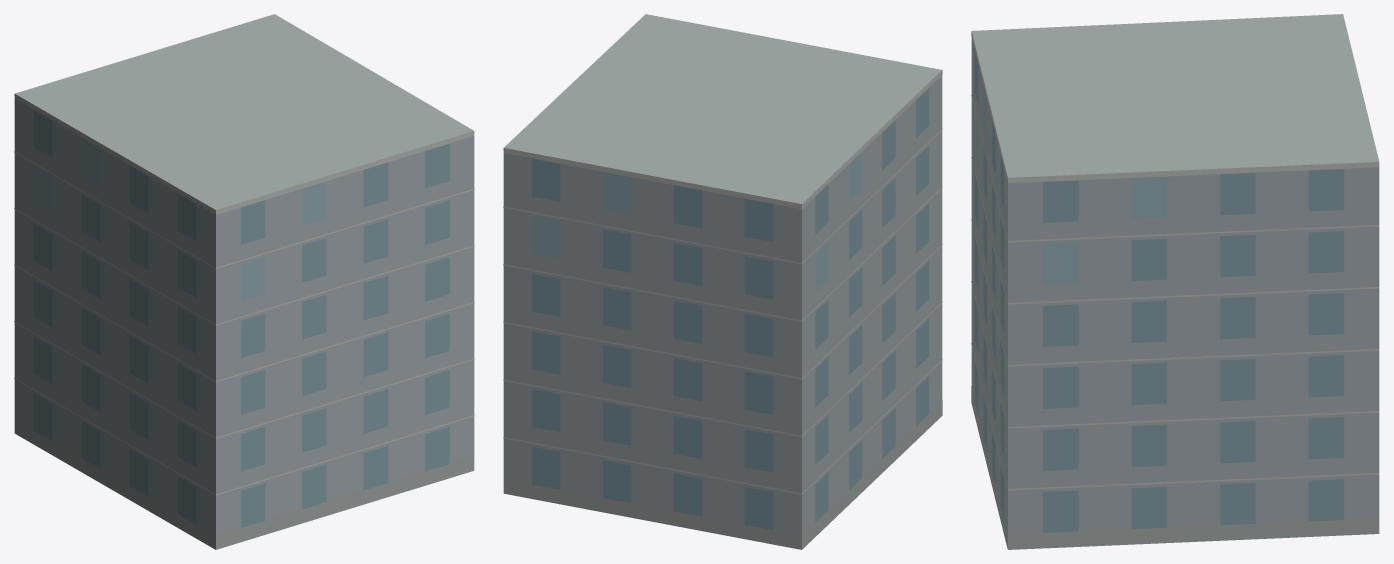
File: survey-upis-32960057.glb
3 renders of one model, left to right at view 1: azimuth 30°, elevation 25°; view 2: azimuth 150°, elevation 25°; view 3: azimuth 270°, elevation 25°, orthographic. The views are drawn at different scales.
Parts seen in each view (by area): view 1: survey-upis-32960057.tmp; view 2: survey-upis-32960057.tmp; view 3: survey-upis-32960057.tmp.
Part boxes in pixels (<box>): survey-upis-32960057.tmp: <box>14,14,474,549</box>; survey-upis-32960057.tmp: <box>503,14,942,549</box>; survey-upis-32960057.tmp: <box>971,14,1379,549</box>.
Bounding box in the file's own units: 15.7 × 16.6 × 16.52.
